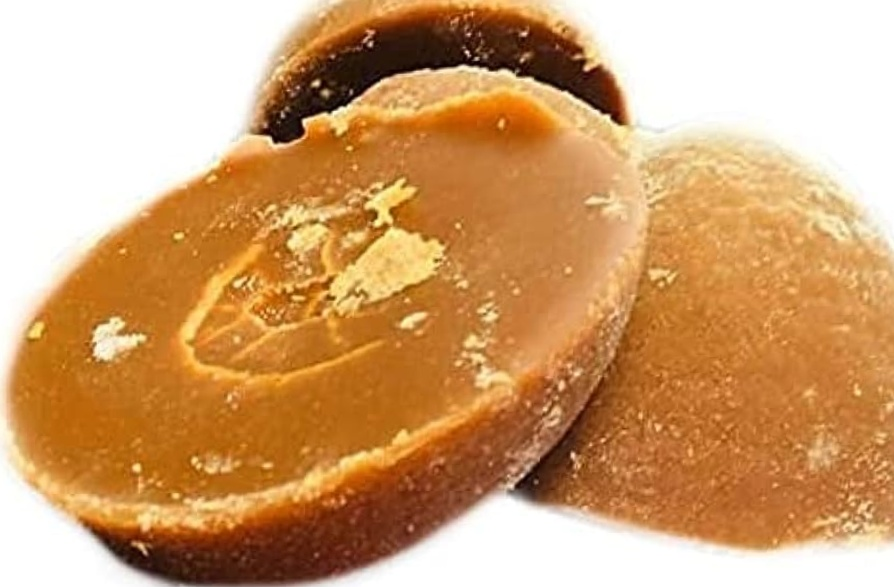hakuru: (0, 54, 667, 587), (515, 106, 894, 554), (231, 0, 643, 144)
